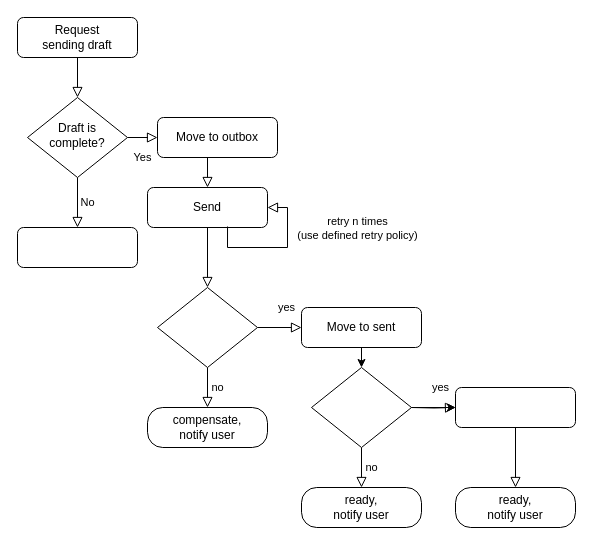
The diagram is 593 pixels wide and 545 high, and some of its shapes have lost their labels. The centre of each missing label's shape, as x and y in pixels:
"Archive" belongs at (x=515, y=407).
"Archiving requested?" belongs at (x=361, y=407).
"cancel, notify user" belongs at (x=77, y=247).
"Sending succeeded?" belongs at (x=207, y=327).
